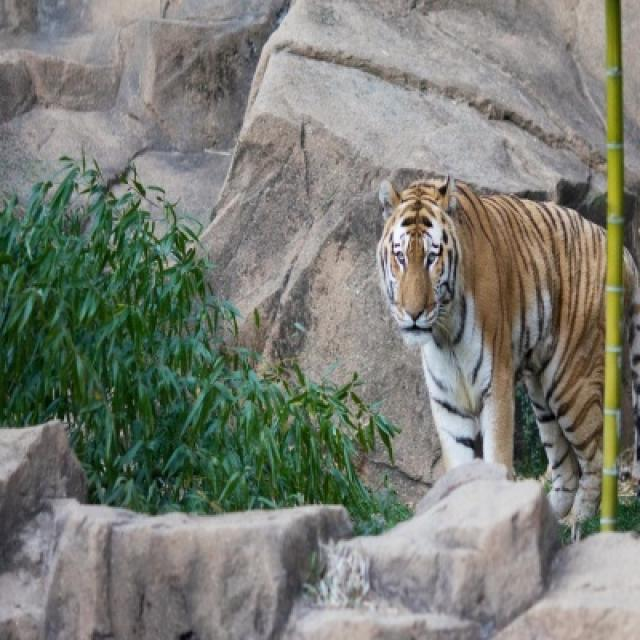Tiger: (378, 176, 636, 494)
